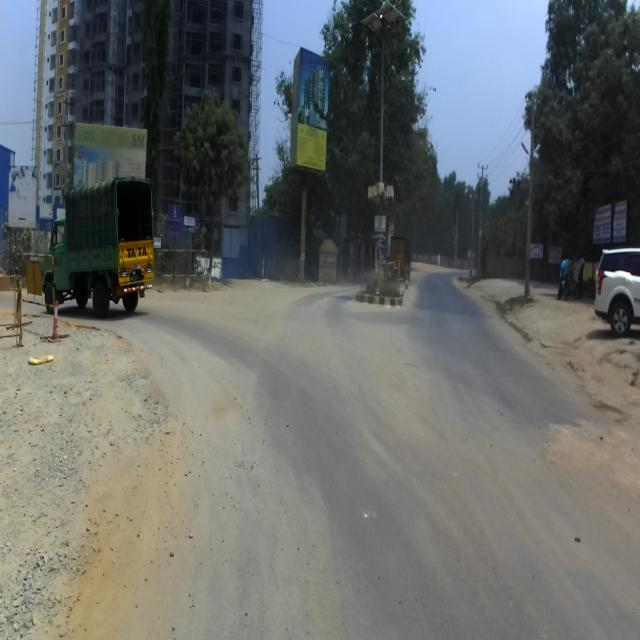truck ahead at: (46, 172, 156, 324)
